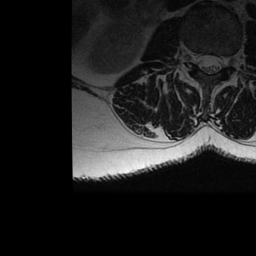CCS_normal: (205, 44, 213, 83)
LFS_normal: (222, 44, 231, 76)
LLS_normal: (213, 44, 222, 78)
RFS_normal: (188, 39, 196, 72)
RLS_normal: (196, 44, 205, 79)
